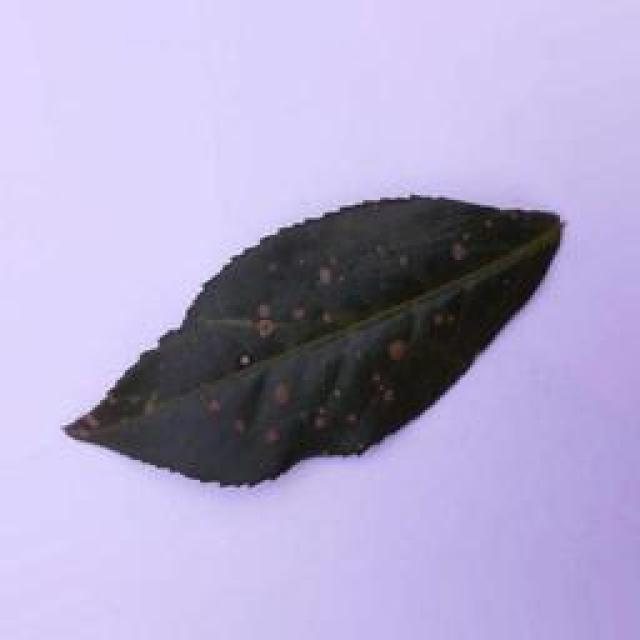Algal Leaf Spot: (57, 189, 568, 485)
